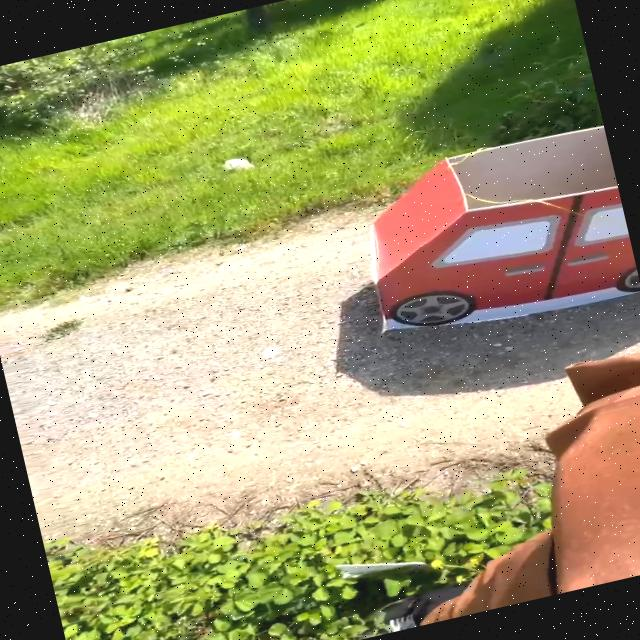red_car: (327, 106, 640, 362)
